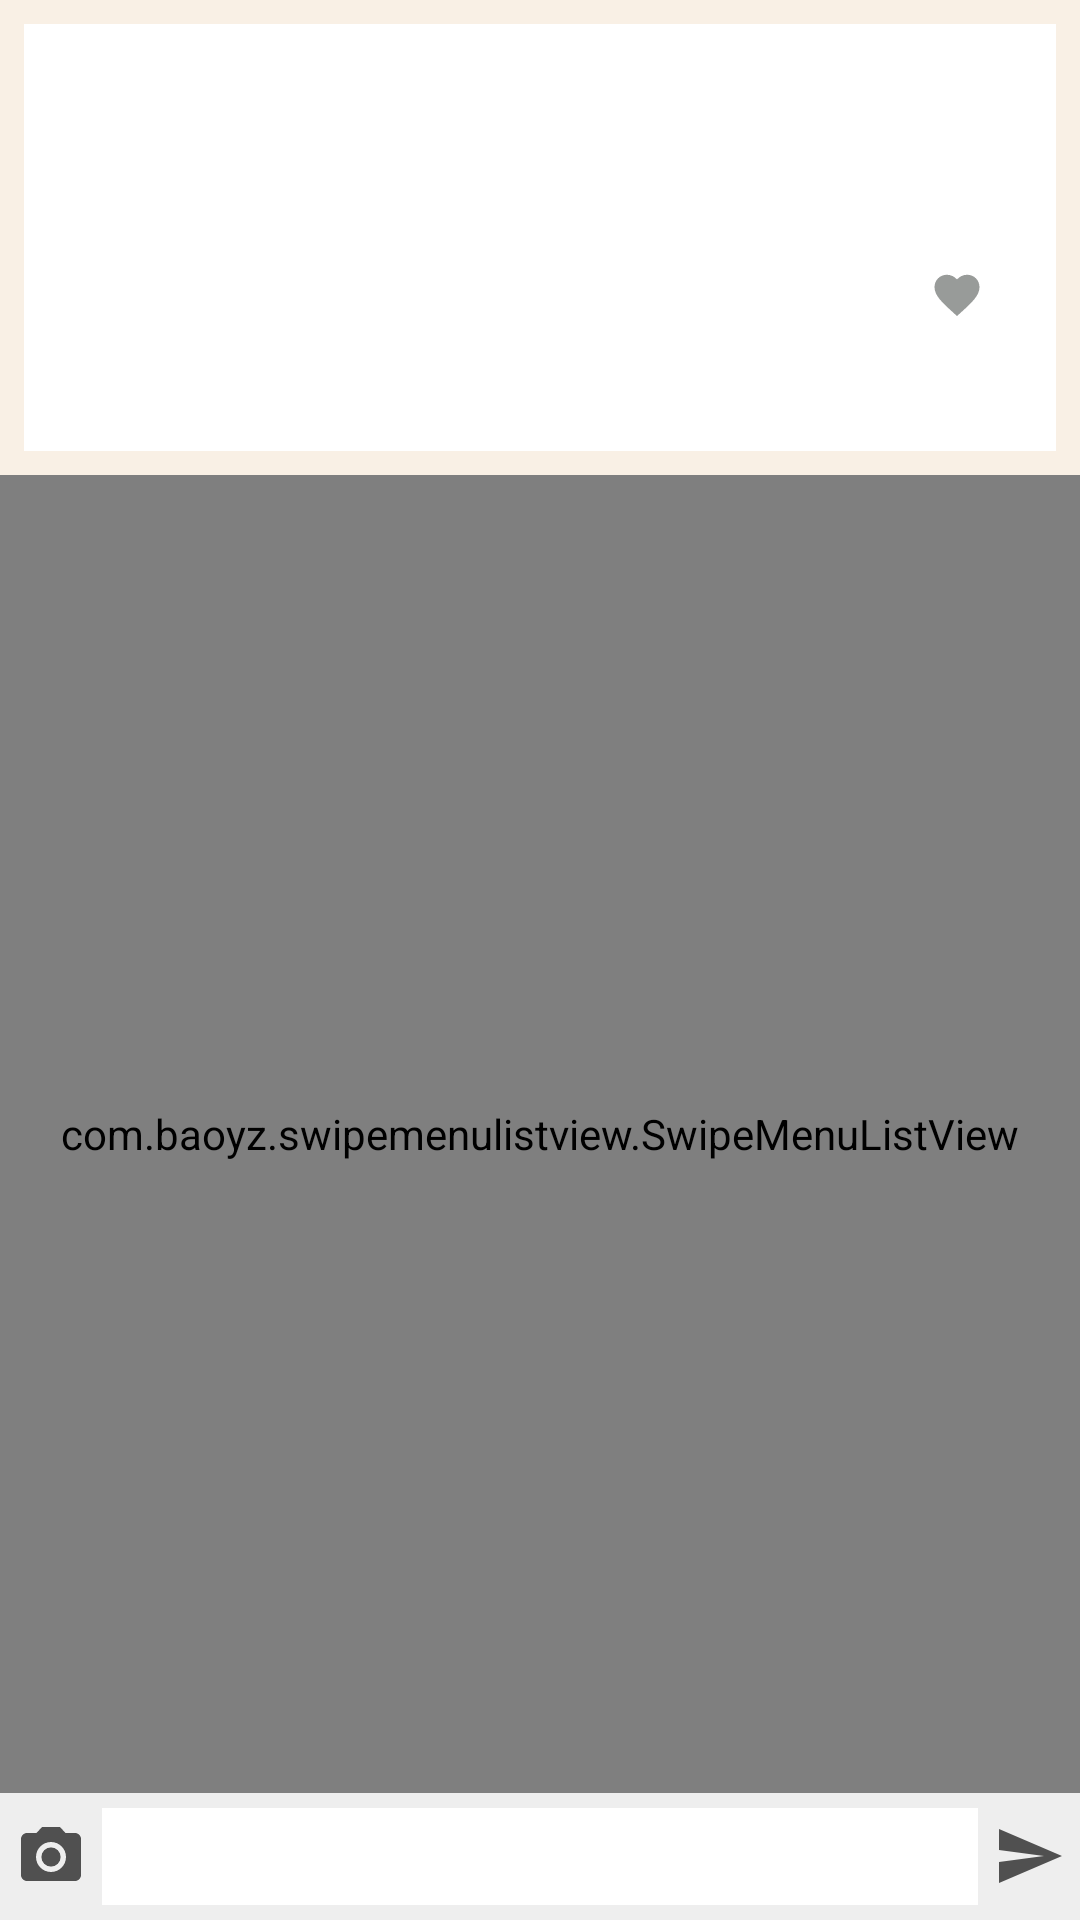

Named icons in this screenshot (1080w x 1920h) and their centers, (x,y):
camera: (51,1854)
like: (957,295)
send: (1030,1856)
